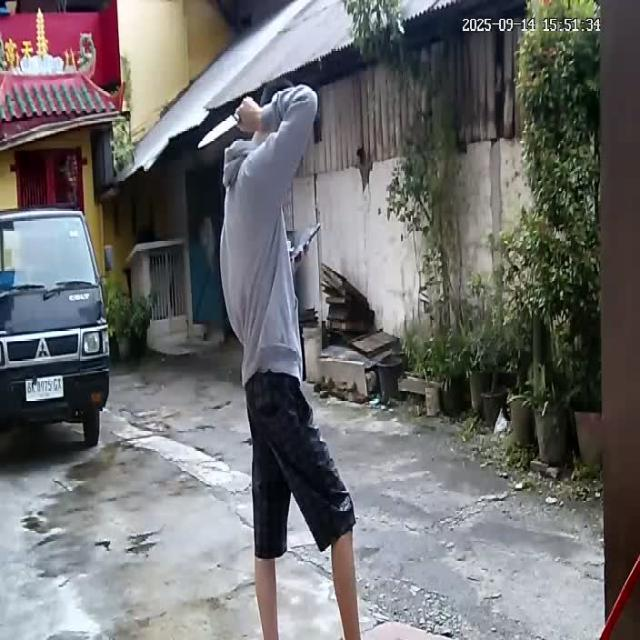senjata_tajam: (196, 114, 239, 152)
